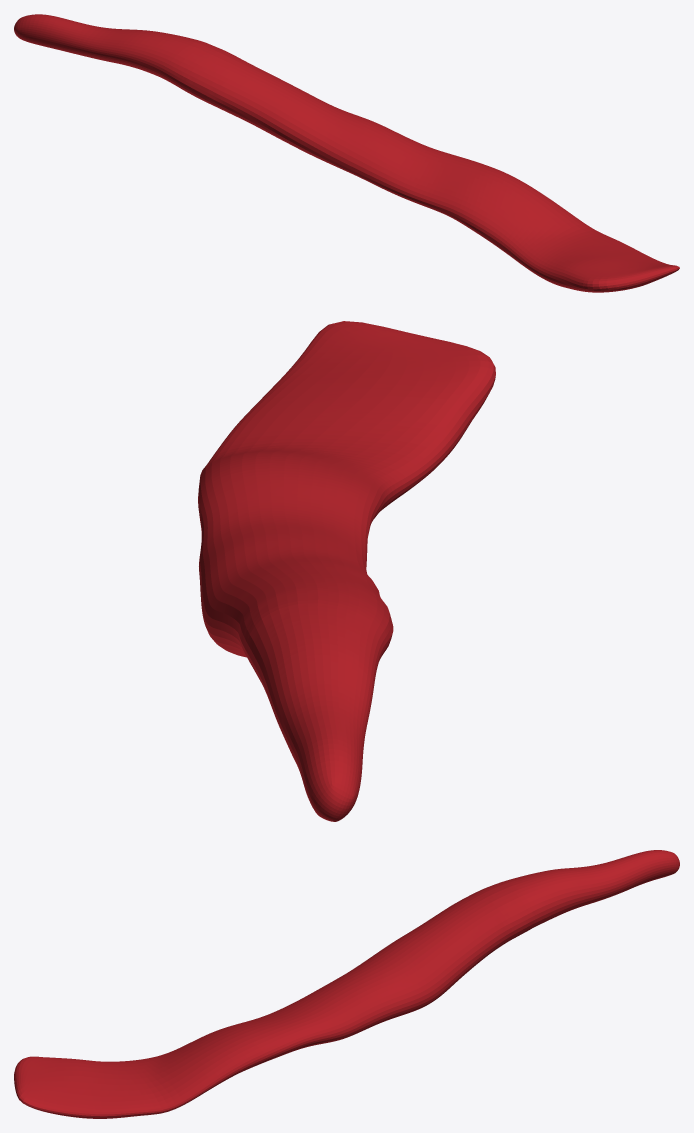
The model's file is frau2-401.glb.
3 views of the same model, one above another, from view 1: azimuth 30°, elevation 25°; view 2: azimuth 150°, elevation 25°; view 3: azimuth 270°, elevation 25° (orthographic). The views are drawn at different scales.
Parts seen in each view (by area): view 1: VH_F_inferior_rectus_extraocular_muscle_L; view 2: VH_F_inferior_rectus_extraocular_muscle_L; view 3: VH_F_inferior_rectus_extraocular_muscle_L.
Part boxes in pixels (x1,y1,x2,y2): VH_F_inferior_rectus_extraocular_muscle_L: (14,14,679,292); VH_F_inferior_rectus_extraocular_muscle_L: (198,321,495,821); VH_F_inferior_rectus_extraocular_muscle_L: (14,850,679,1118).
Size of the model in its own units: 0.0258 by 0.00914 by 0.0441.
